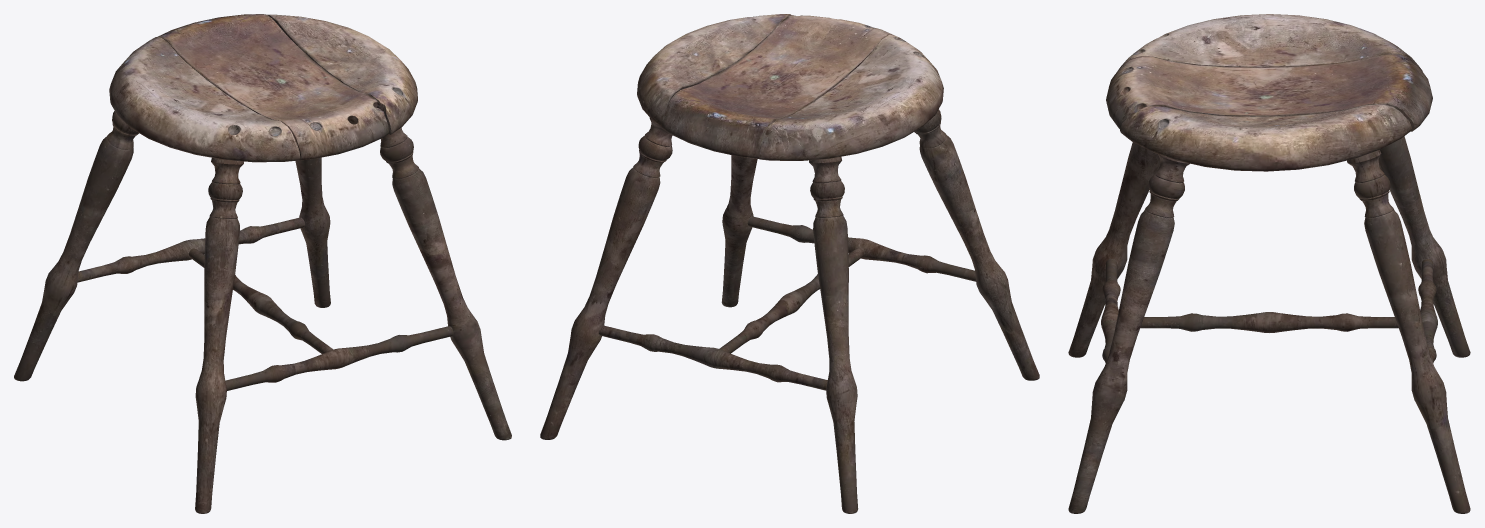
File: wooden_stool_01.glb
3 views of the same model, side by side, from view 1: azimuth 30°, elevation 25°; view 2: azimuth 150°, elevation 25°; view 3: azimuth 270°, elevation 25° (orthographic). The views are drawn at different scales.
Parts seen in each view (by area): view 1: wooden_stool_01; view 2: wooden_stool_01; view 3: wooden_stool_01.
Part boxes in pixels (x1,y1,x2,y2): wooden_stool_01: (14,14,511,513); wooden_stool_01: (540,14,1039,513); wooden_stool_01: (1068,14,1470,513).
Size of the model in its own units: 0.4254 by 0.4374 by 0.4424.
1 material, 1 textured.
